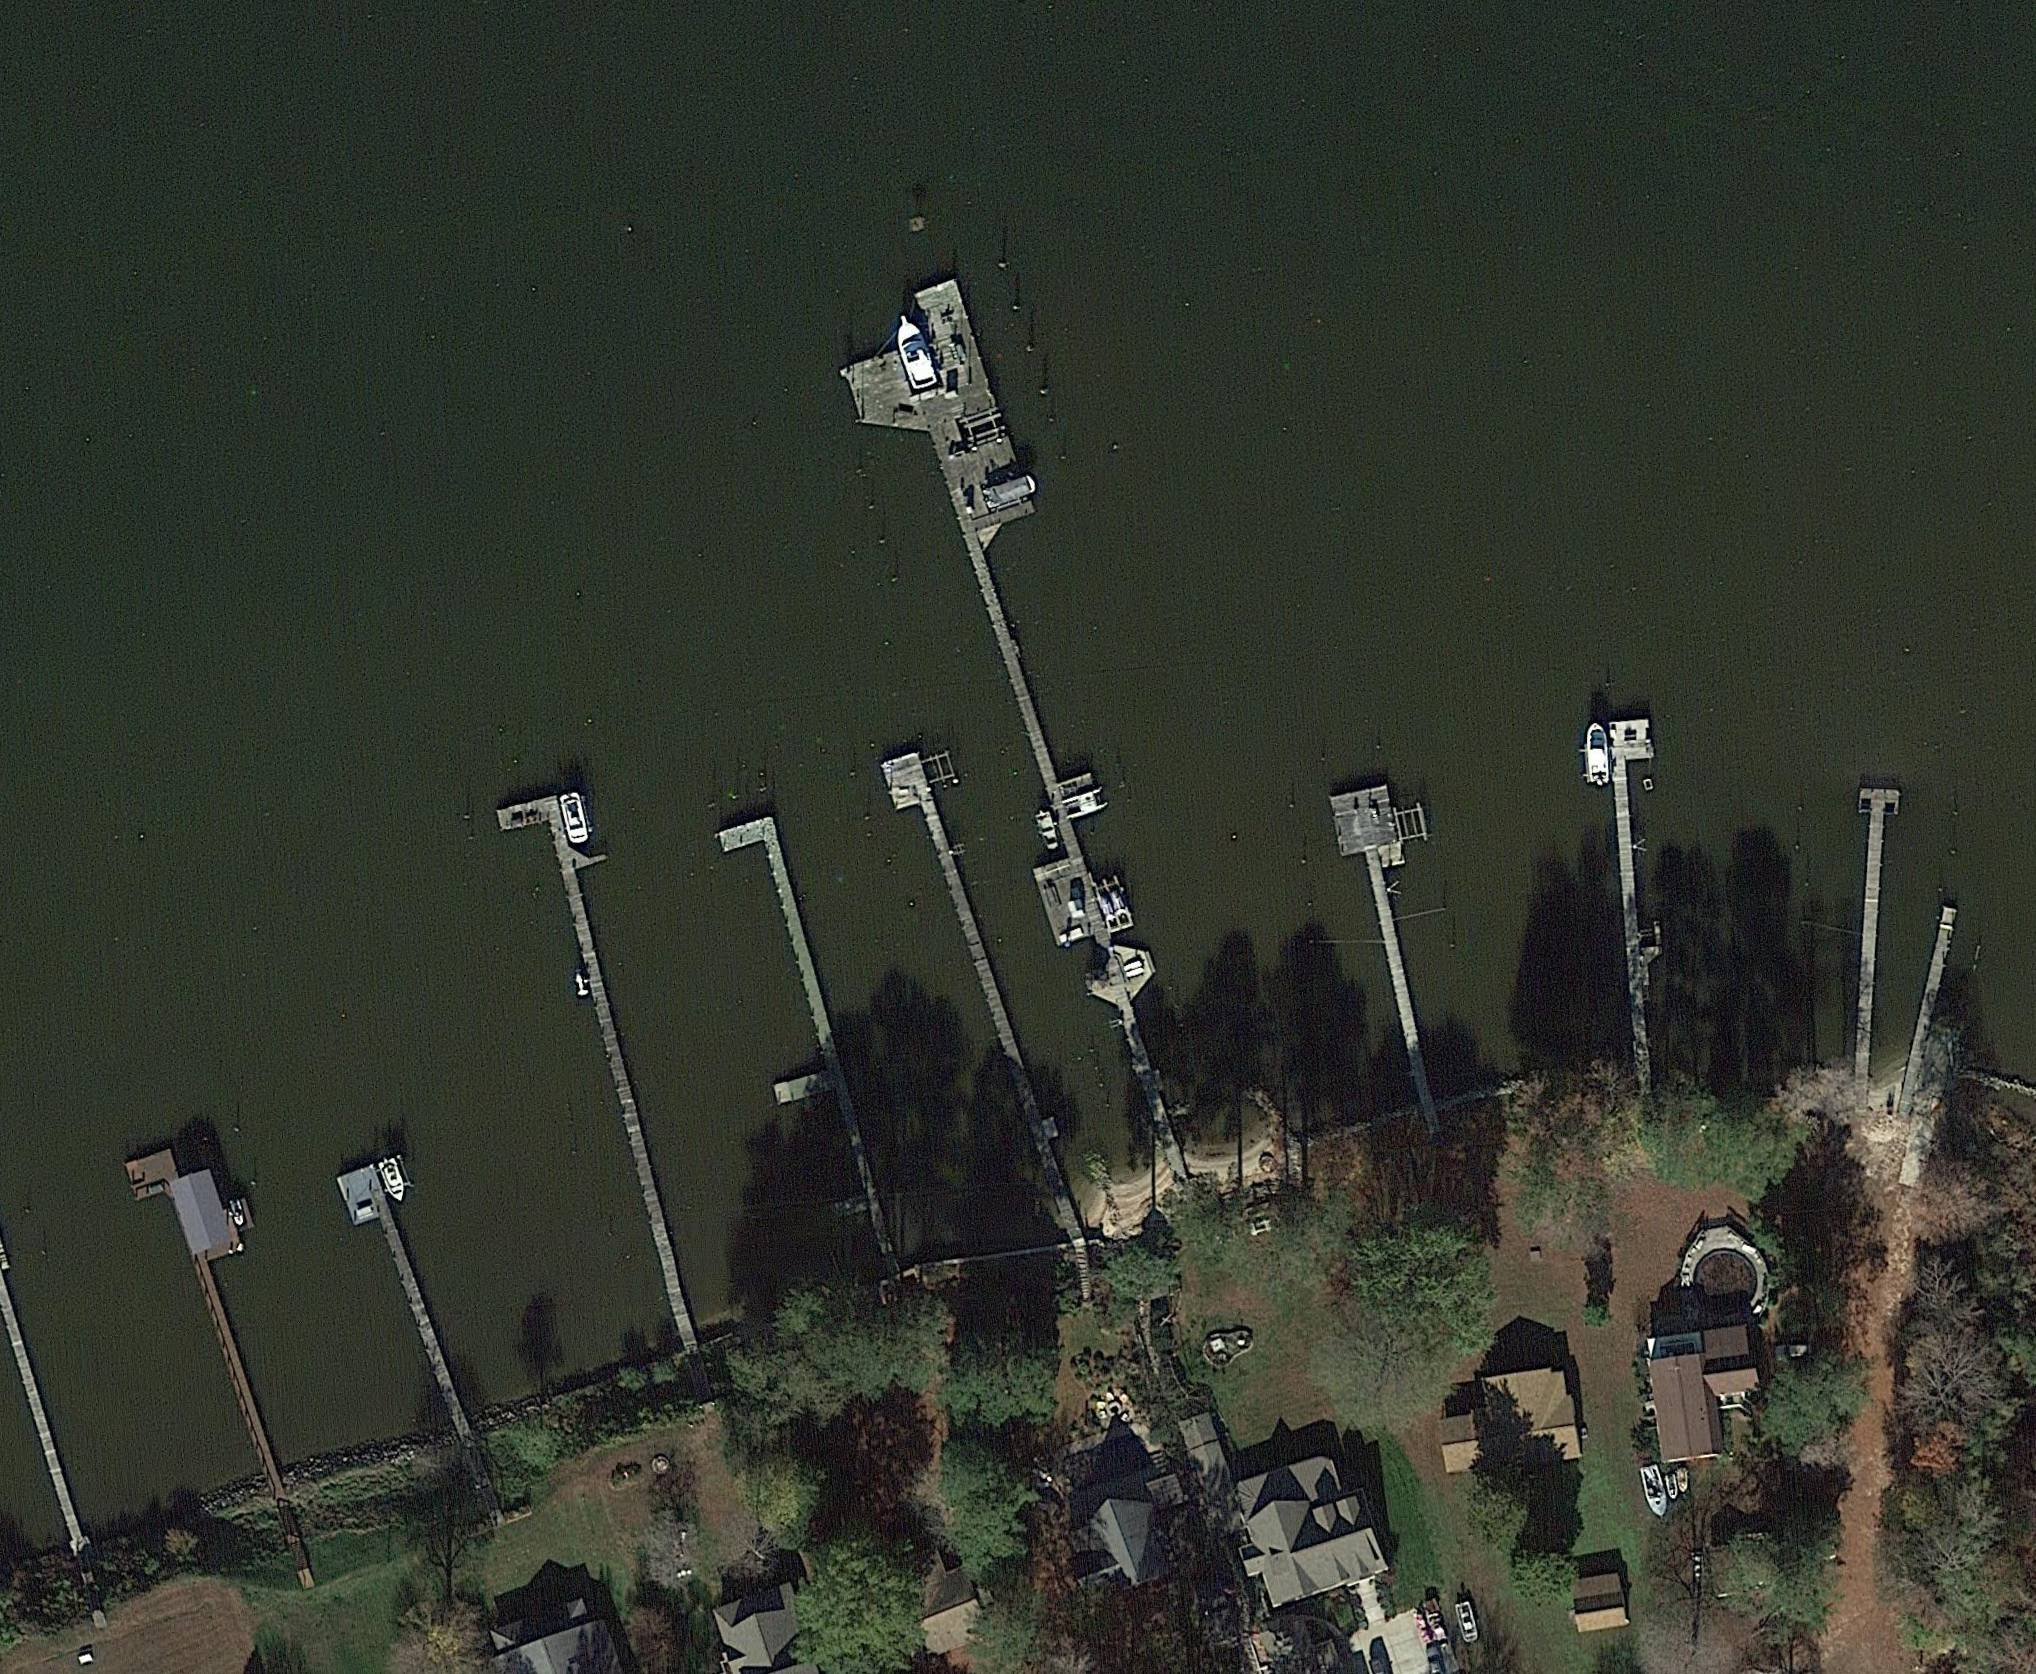harbor: (824, 279, 1192, 1052), (497, 790, 700, 1278), (709, 815, 874, 1204), (123, 1128, 316, 1451), (878, 752, 1038, 1128), (337, 1163, 460, 1415), (1331, 785, 1446, 1052), (0, 1239, 93, 1527), (1608, 719, 1672, 1050), (1843, 786, 1901, 1047), (1914, 906, 1958, 1033)
ship: (891, 313, 939, 391), (374, 1155, 413, 1206), (1583, 724, 1612, 786), (1640, 1464, 1672, 1518), (1454, 1600, 1481, 1644)
